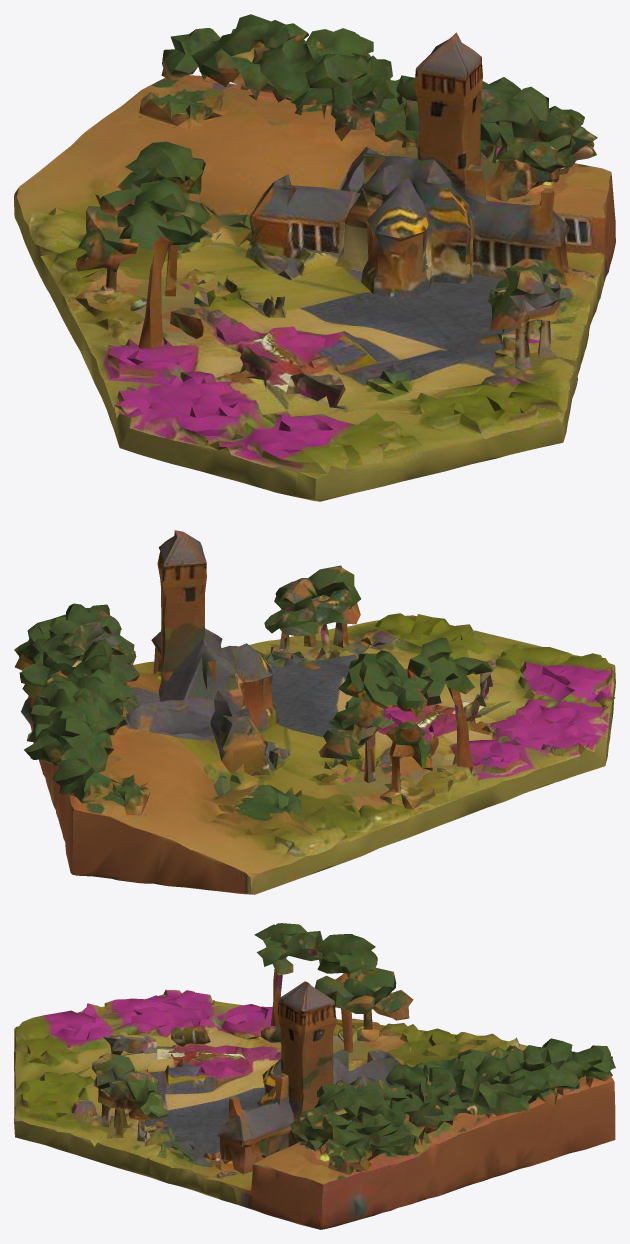
The model's file is hoge-veluwe.glb.
3 views of the same model, one above another, from view 1: azimuth 30°, elevation 25°; view 2: azimuth 150°, elevation 25°; view 3: azimuth 270°, elevation 25° (orthographic). The views are drawn at different scales.
Visible parts, largest first — view 1: logan-textured.obj; view 2: logan-textured.obj; view 3: logan-textured.obj.
Boxes of the visible parts, x1,y1,x2,y2 form: logan-textured.obj: (14,14,615,501); logan-textured.obj: (14,530,615,894); logan-textured.obj: (14,923,615,1229).
Bounding box in the file's own units: 0.8623 × 0.343 × 1.
1 material, 1 textured.
